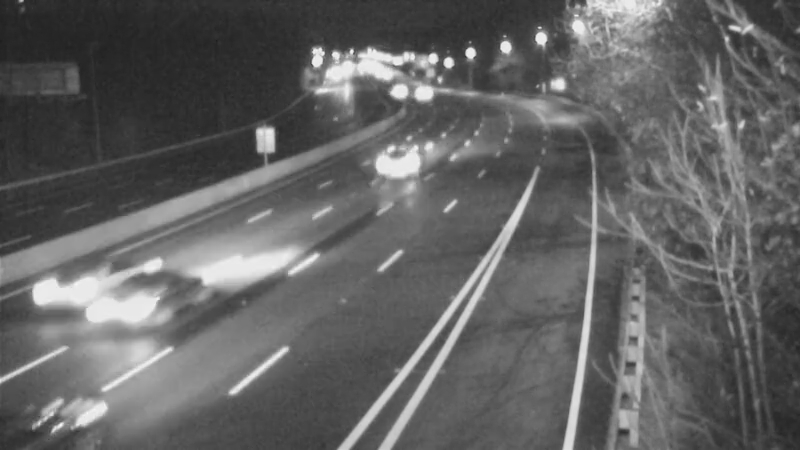vehicle: (74, 251, 184, 361), (362, 123, 442, 203), (24, 252, 104, 332), (391, 58, 441, 108), (365, 60, 415, 110)
